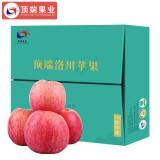apple: (25, 110, 70, 155), (30, 79, 67, 115), (8, 108, 33, 147), (60, 109, 83, 145)
